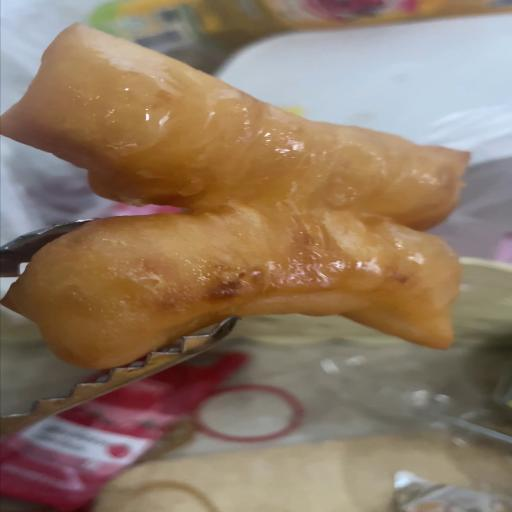street_golden_good: (0, 30, 468, 373)
